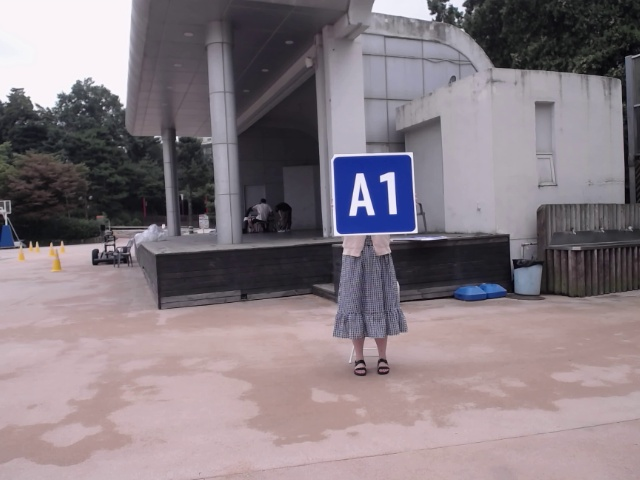delivery_a1: (331, 154, 417, 235)
